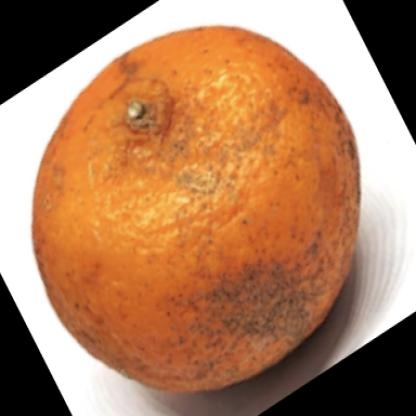rotten: (35, 26, 362, 391)
